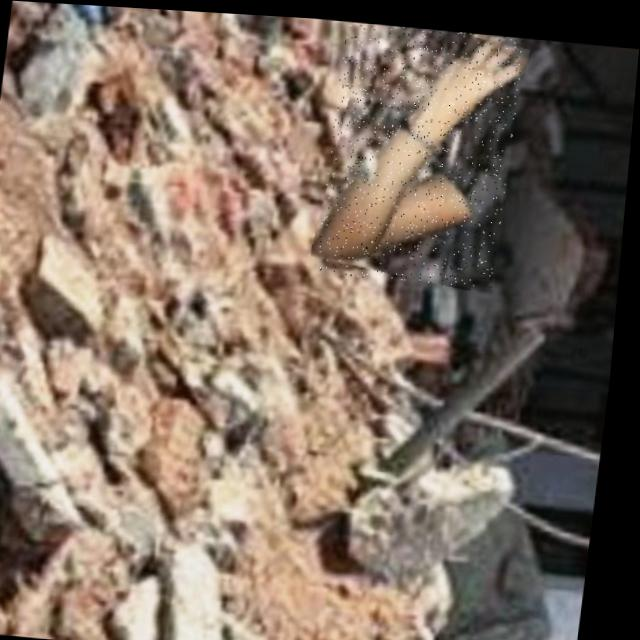Person in Rubble: (318, 16, 524, 283)
